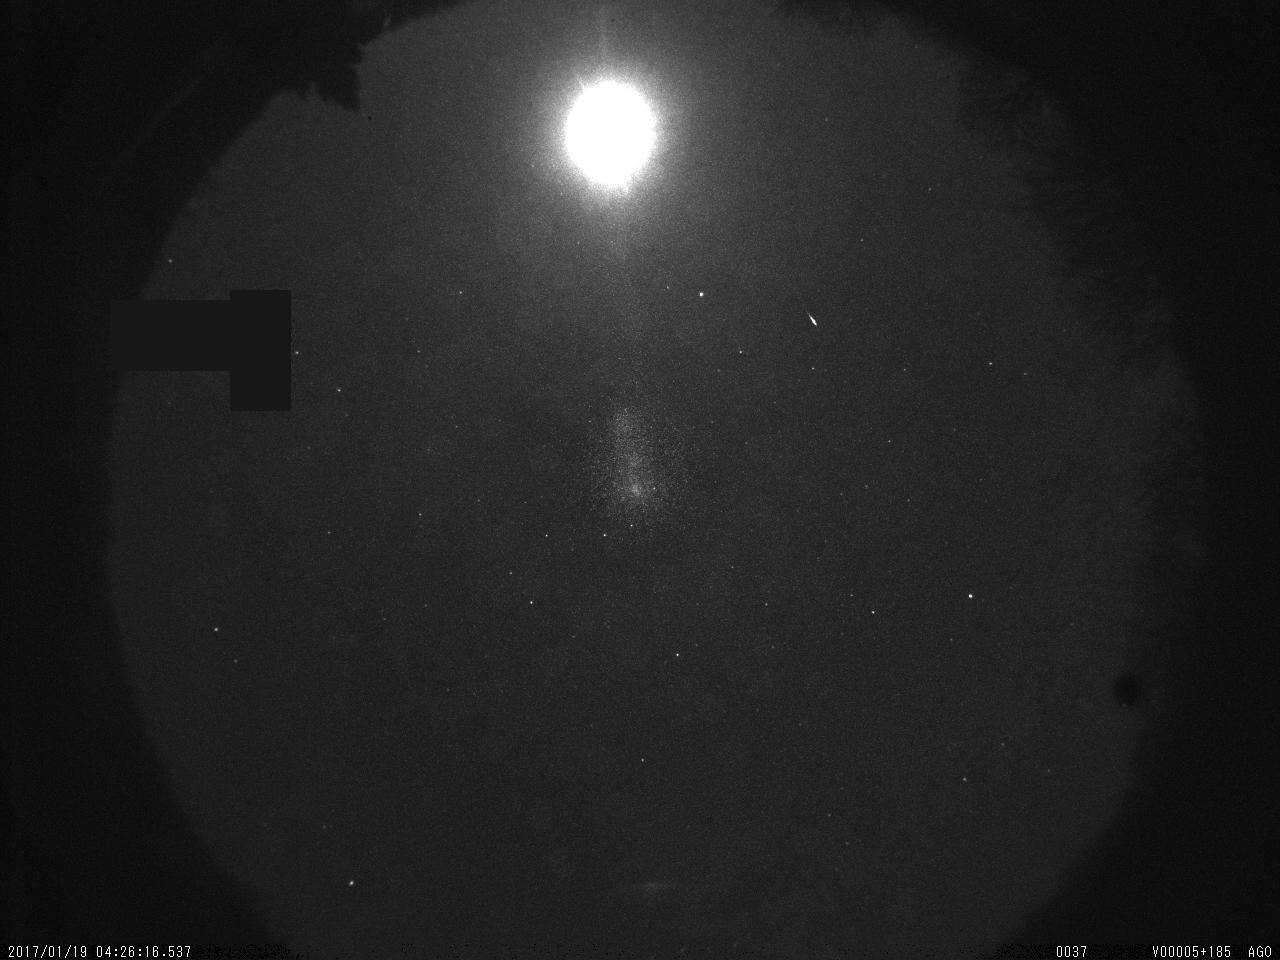meteor: (803, 306, 825, 336)
